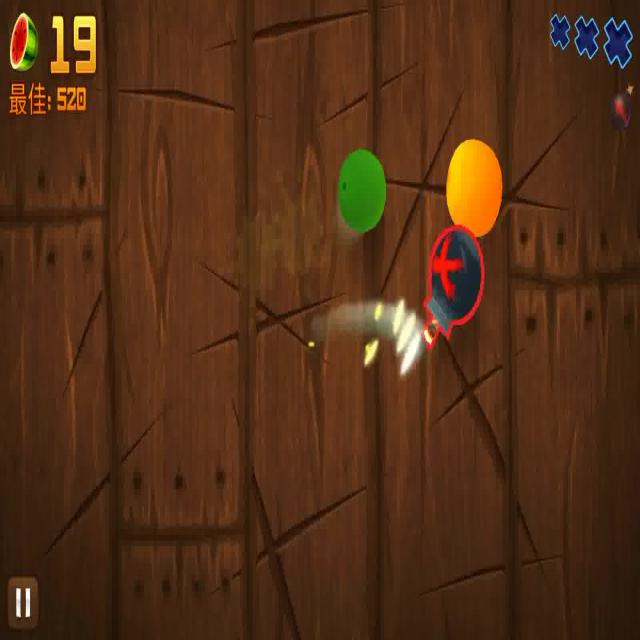bomb: (422, 224, 486, 342)
fruit: (444, 138, 504, 232), (337, 148, 390, 226)
